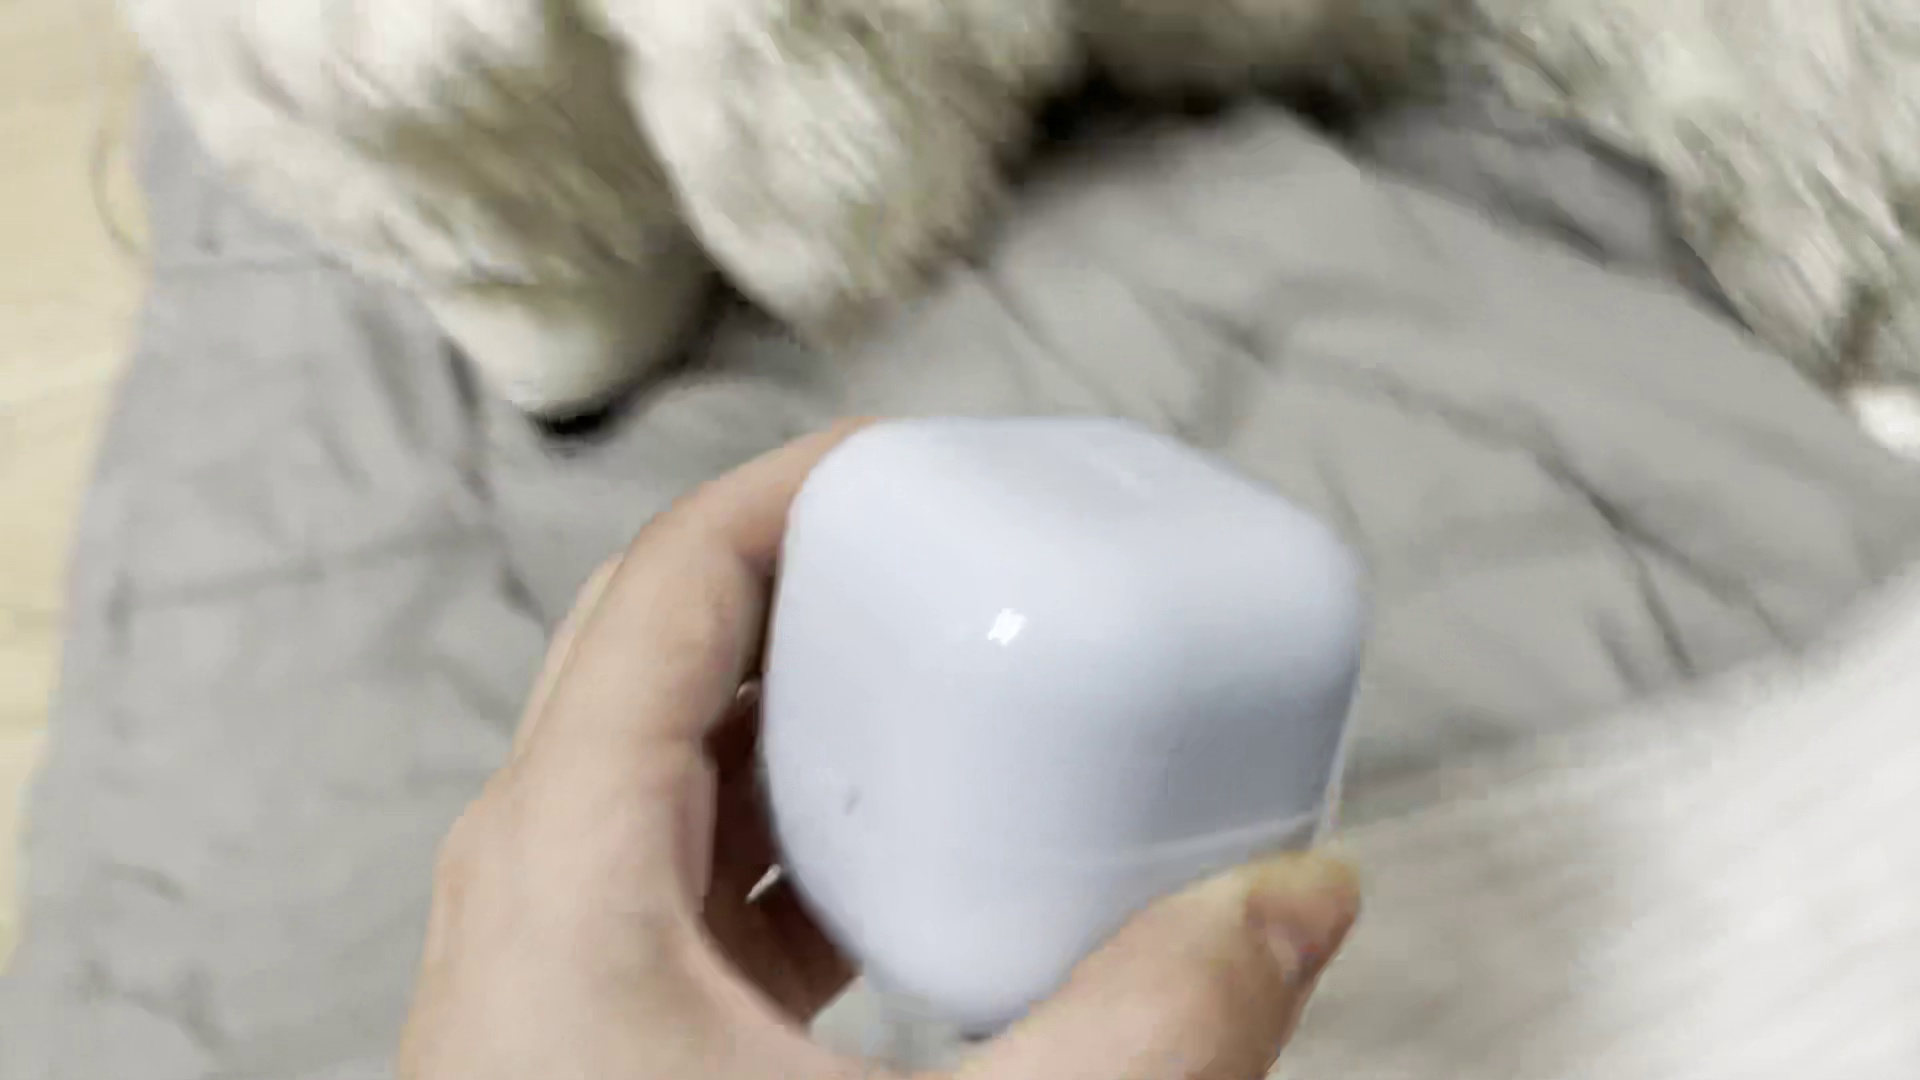cream: (764, 417, 1371, 1029)
